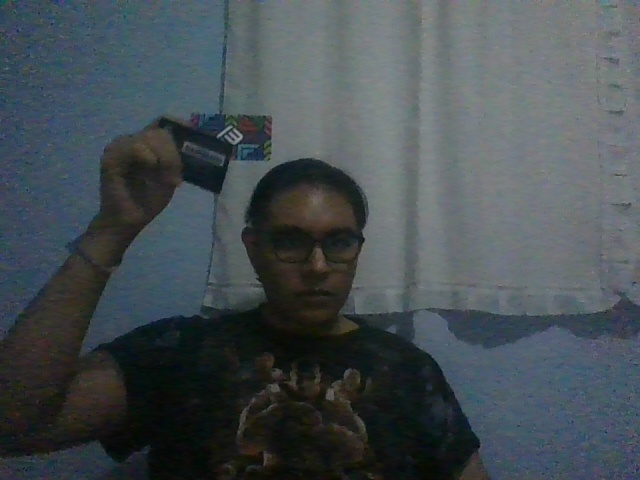tarjeta: (155, 115, 234, 196), (187, 111, 273, 163)
